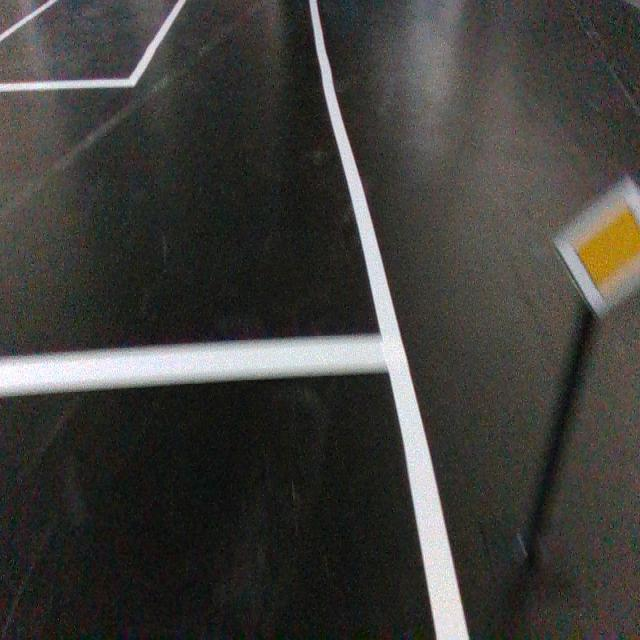priority-sign: (550, 173, 640, 324)
